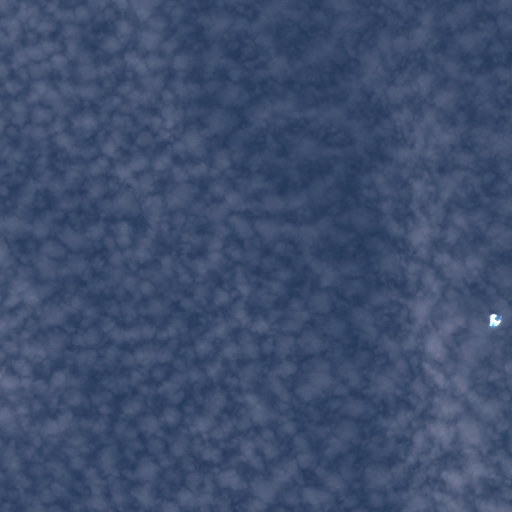Iceberg: (489, 314, 501, 326)
